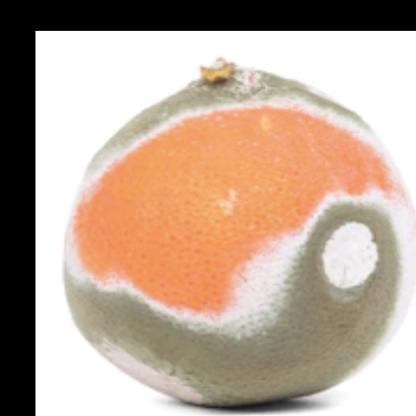rotten: (62, 62, 401, 413)
